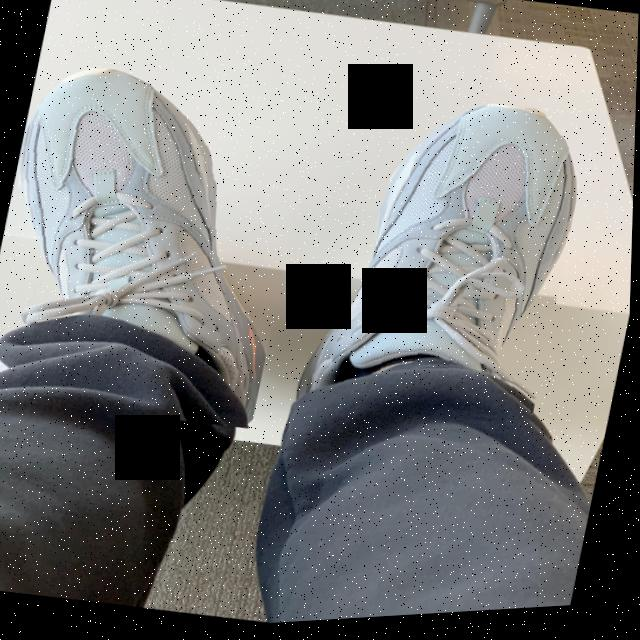shoe: (0, 43, 322, 444), (288, 80, 595, 447)
